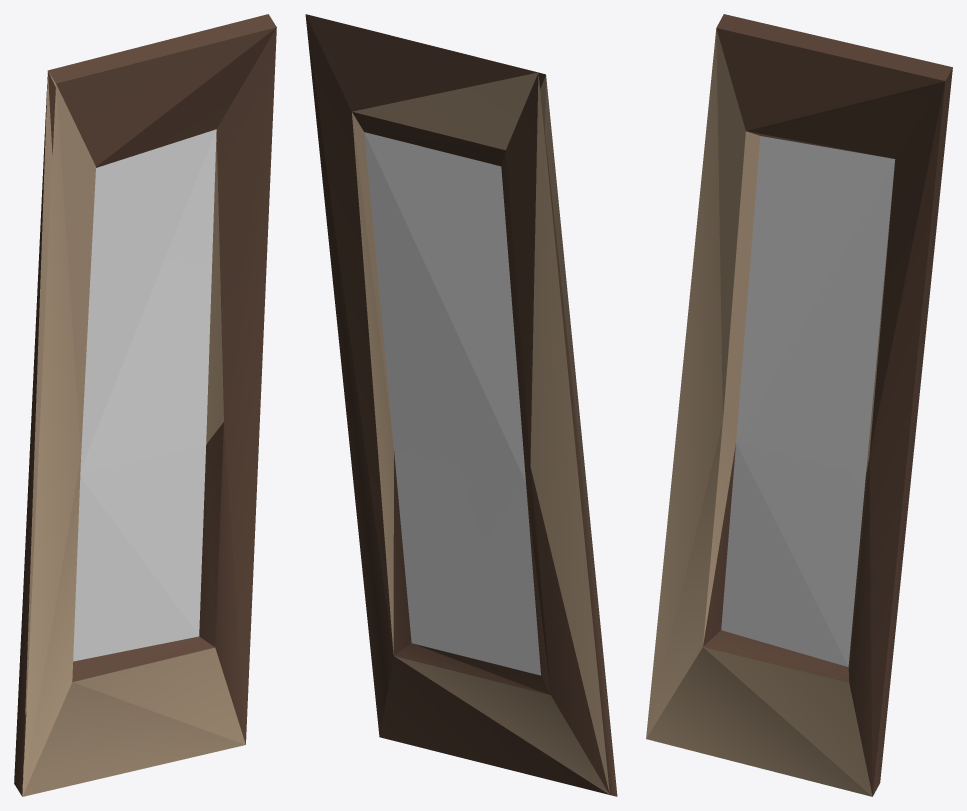
The model's file is 1_Mirror_260725.glb.
The picture shows the model from 3 angles, left to right: view 1: azimuth 30°, elevation 25°; view 2: azimuth 150°, elevation 25°; view 3: azimuth 330°, elevation 25°; orthographic projection. The views are drawn at different scales.
Visible parts, largest first — view 1: tripo_node_6c804dc6-282e-4d6c-add3-ddf3f58798d4.002; view 2: tripo_node_6c804dc6-282e-4d6c-add3-ddf3f58798d4.002; view 3: tripo_node_6c804dc6-282e-4d6c-add3-ddf3f58798d4.002.
Boxes of the visible parts, x1,y1,x2,y2 form: tripo_node_6c804dc6-282e-4d6c-add3-ddf3f58798d4.002: (14, 14, 276, 796); tripo_node_6c804dc6-282e-4d6c-add3-ddf3f58798d4.002: (305, 14, 617, 796); tripo_node_6c804dc6-282e-4d6c-add3-ddf3f58798d4.002: (646, 14, 952, 796).
Bounding box in the file's own units: 1.47 × 3.61 × 0.2667.
